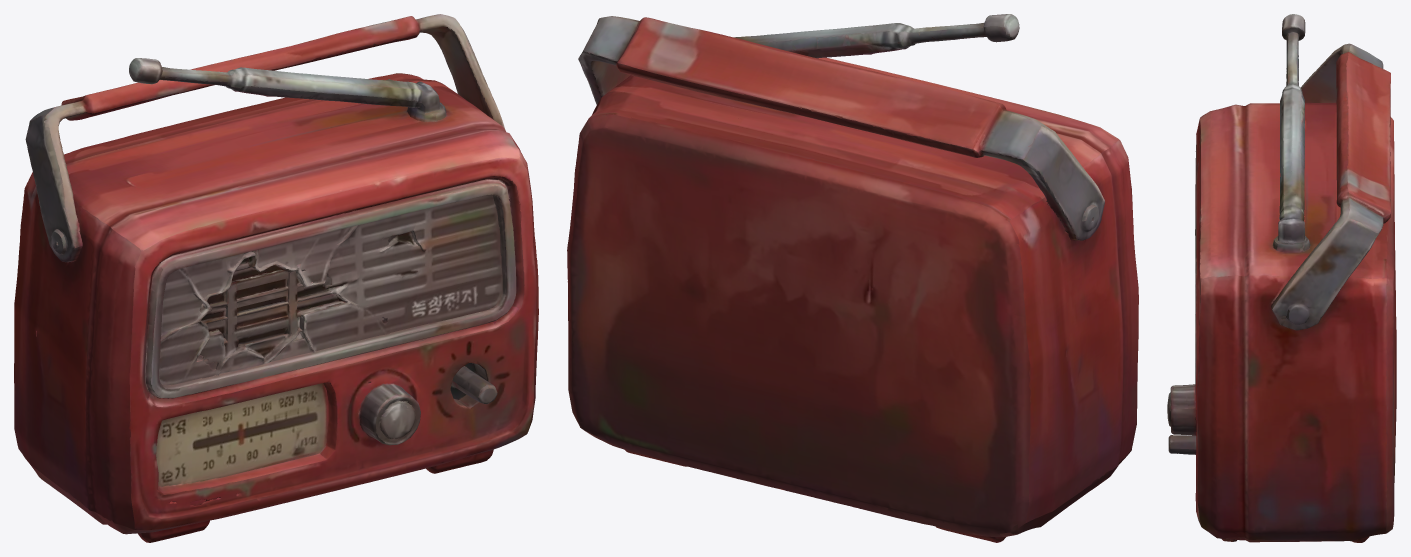
The model's file is radio-broken.glb.
3 views of the same model, side by side, from view 1: azimuth 30°, elevation 25°; view 2: azimuth 150°, elevation 25°; view 3: azimuth 270°, elevation 25° (orthographic). The views are drawn at different scales.
Parts seen in each view (by area): view 1: geometry_0; view 2: geometry_0; view 3: geometry_0.
Boxes of the visible parts, x1,y1,x2,y2 form: geometry_0: (14,14,538,542); geometry_0: (567,14,1138,542); geometry_0: (1167,14,1396,542).
Bounding box in the file's own units: 0.28 × 0.273 × 0.1431.
1 material, 1 textured.
